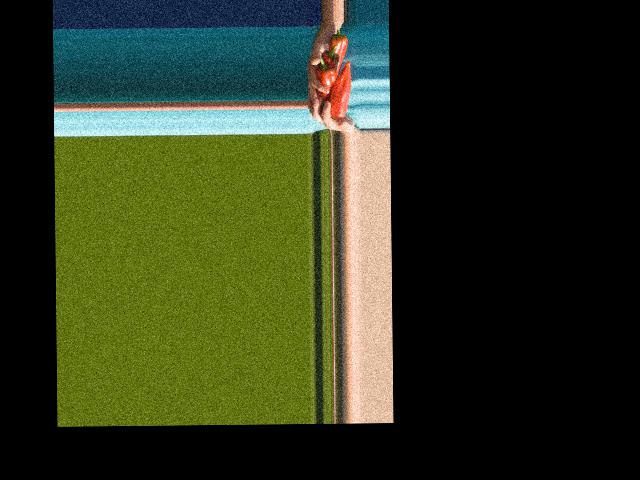bell_pepper: (327, 29, 348, 66)
